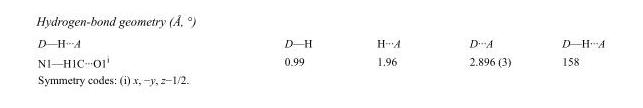table: (37, 36, 604, 68)
table column: (37, 36, 196, 68), (196, 36, 343, 68), (434, 36, 535, 68), (343, 36, 434, 68), (535, 36, 604, 68)
table row: (37, 51, 604, 68), (37, 36, 604, 51)
